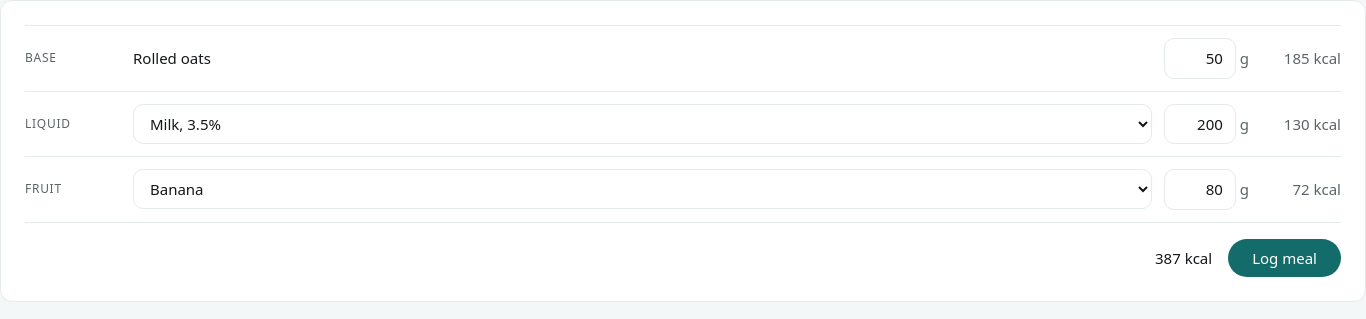
it: MealBuilder › blocks the log when a slot is cleared
This screenshot has width=1366, height=319.
Clear the field named "Grams of Fruit" at (1200, 189), box [1164, 169, 1236, 210]
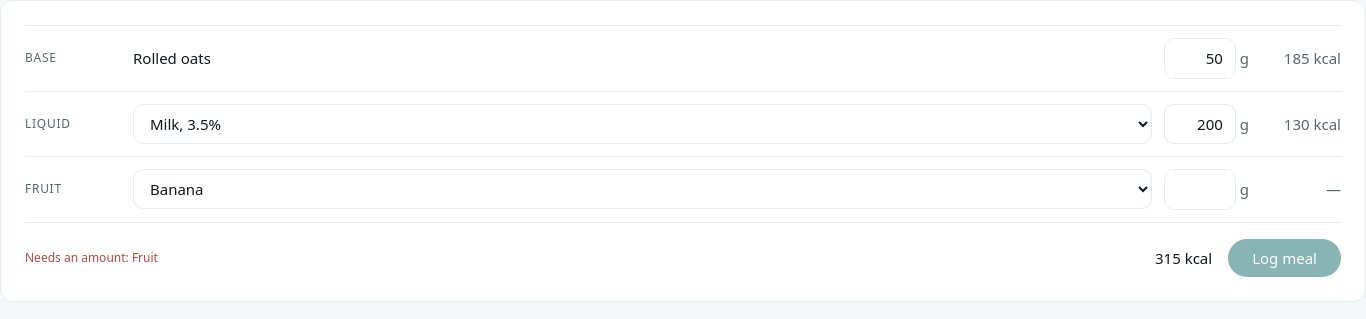
Expected: the button "Log meal" is disabled, [1228, 238, 1341, 277]
Expected: the text "Needs an amount: Fruit" is shown, [25, 249, 158, 267]
